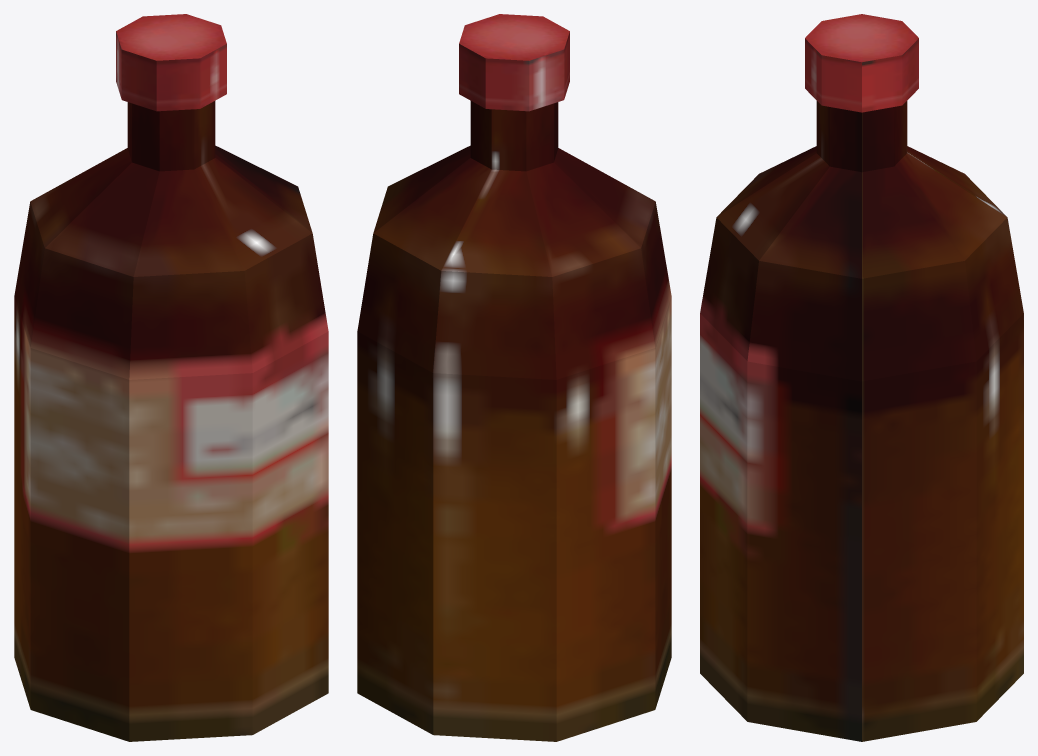
The model's file is jar_large_4.fbx.
3 views of the same model, side by side, from view 1: azimuth 30°, elevation 25°; view 2: azimuth 150°, elevation 25°; view 3: azimuth 270°, elevation 25° (orthographic).
Visible parts, largest first — view 1: mesh_0; view 2: mesh_0; view 3: mesh_0.
Boxes of the visible parts, left/top/right/bottom form: mesh_0: left=14, top=14, right=328, bottom=741; mesh_0: left=357, top=14, right=671, bottom=741; mesh_0: left=700, top=14, right=1023, bottom=741.
Bounding box in the file's own units: 13.86 × 30 × 13.86.
1 material, 1 textured.
